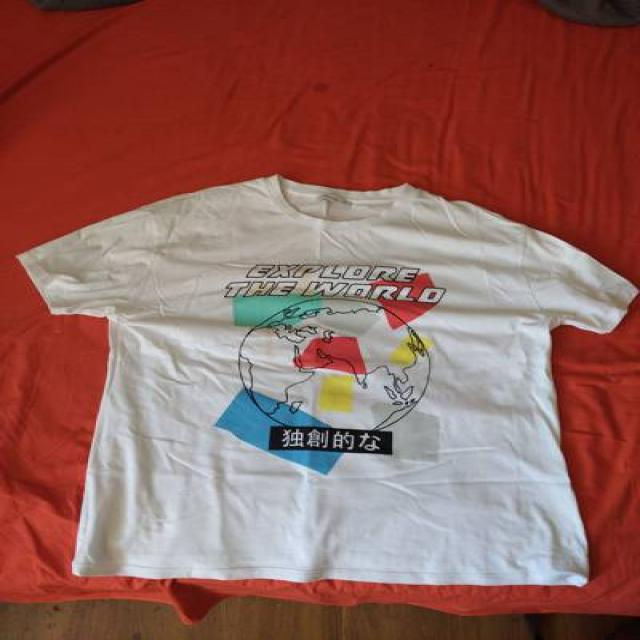Clothes -Biodegradable-: (24, 179, 630, 592)
